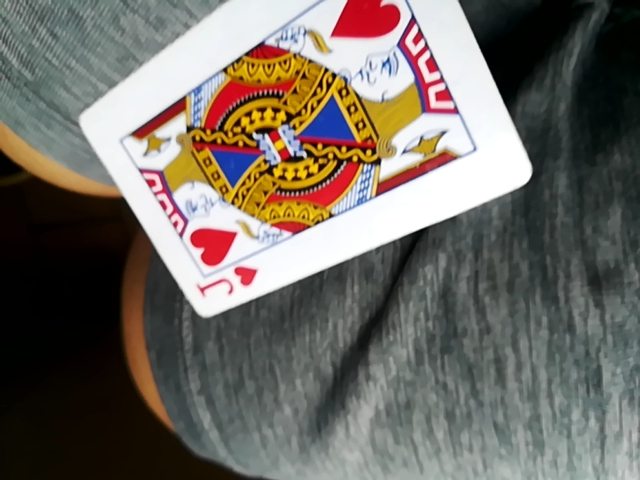hx j: (85, 0, 531, 324)
